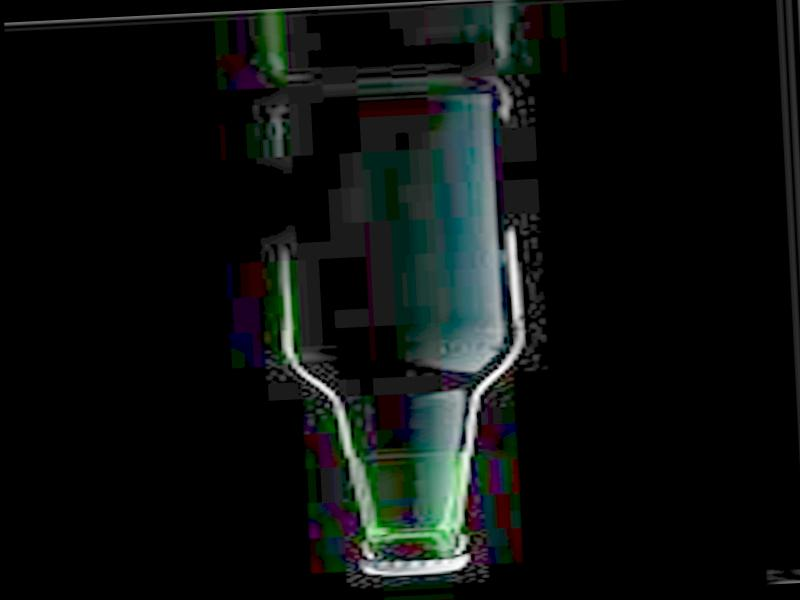Beer: (270, 80, 544, 582)
